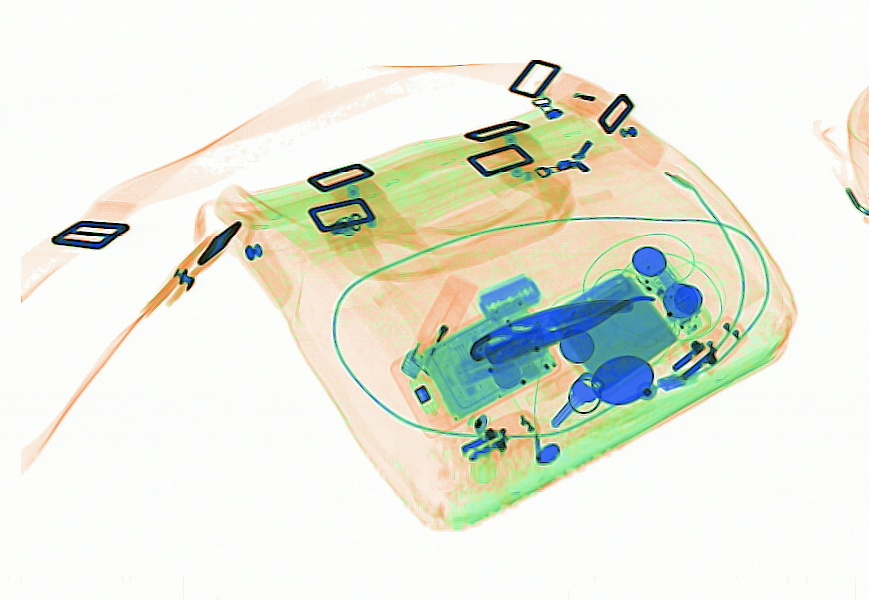knife: (477, 273, 542, 322)
lighter: (399, 273, 478, 379)
